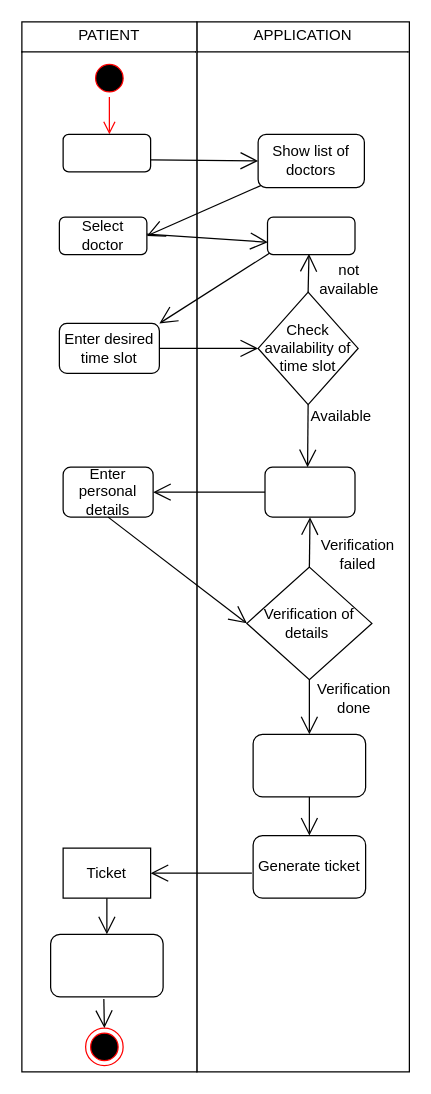
Image size: 431x1094. Some labels were removed from this diagram. Here are the shapes that lost their labels. From the top down, the box of each, then its label:
(62, 133, 151, 172): Open Application
(266, 216, 355, 255): Ask for time slot
(264, 466, 355, 517): Ask personal details
(252, 733, 366, 797): Confirm appointment
(49, 933, 163, 997): Print ticket
